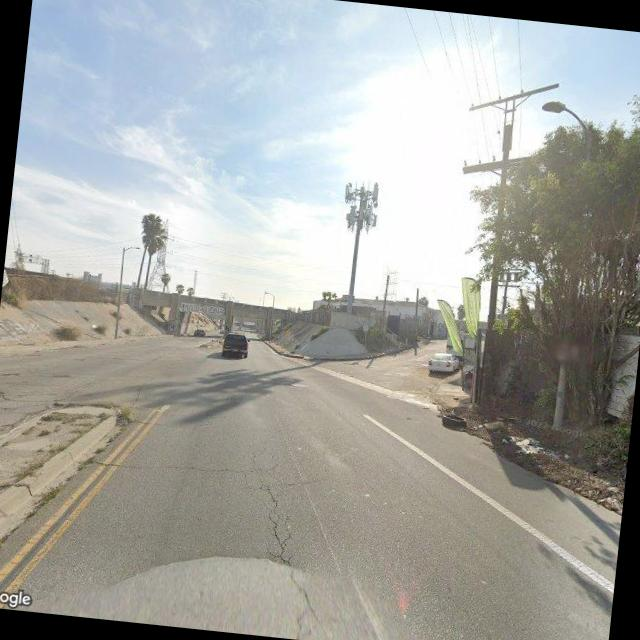crack: (228, 448, 343, 640), (86, 446, 244, 484)
